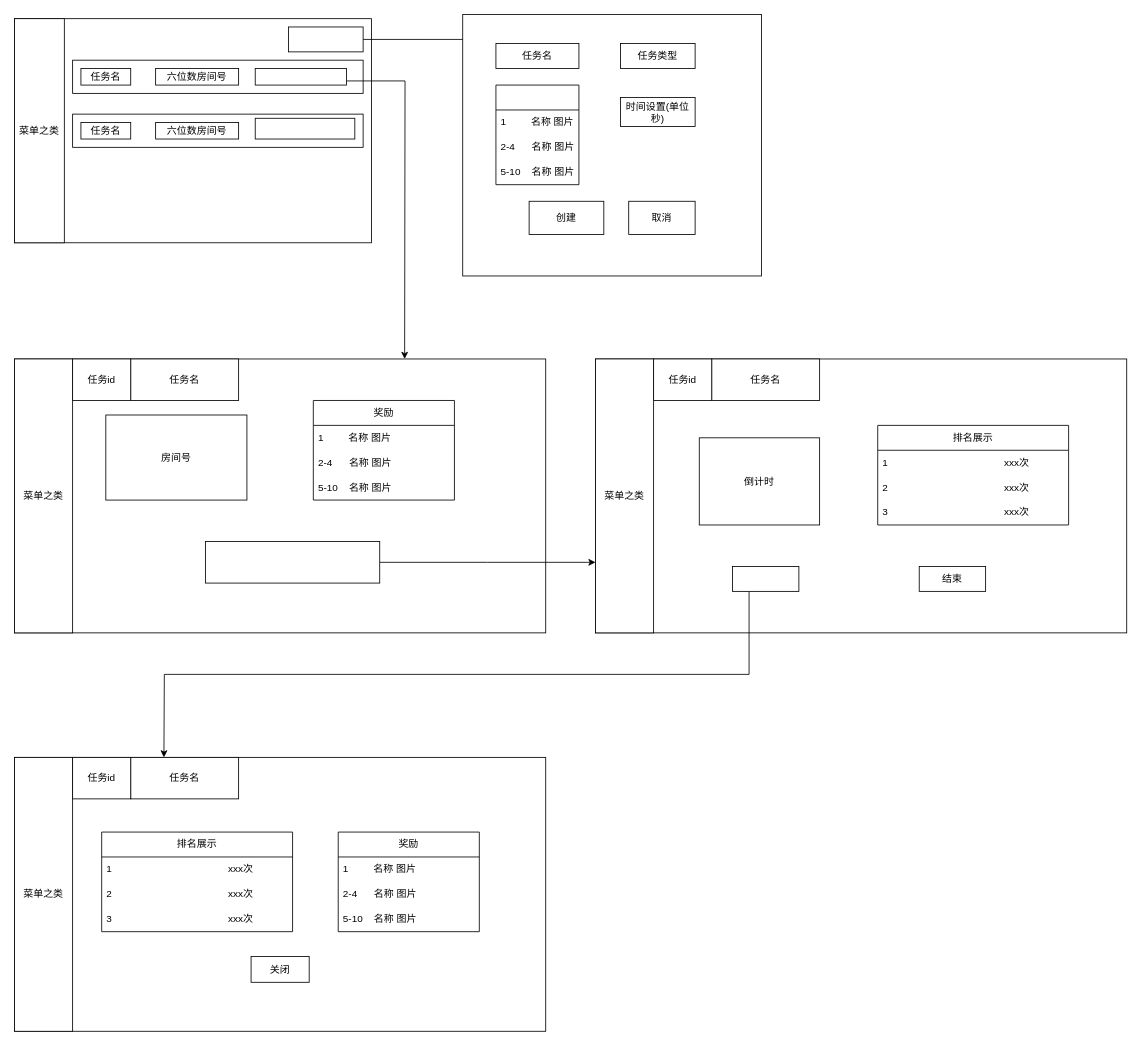
This 1141x1046 diagram has some shape labels left out. Each missing label, with the box of its shape:
停止: (732, 566, 799, 591)
发布: (254, 68, 347, 85)
发布（超过一个小时没使用或者已用置灰）: (254, 117, 355, 139)
奖励设置: (495, 84, 579, 185)
开始: (205, 541, 380, 583)
新建: (288, 26, 363, 52)
